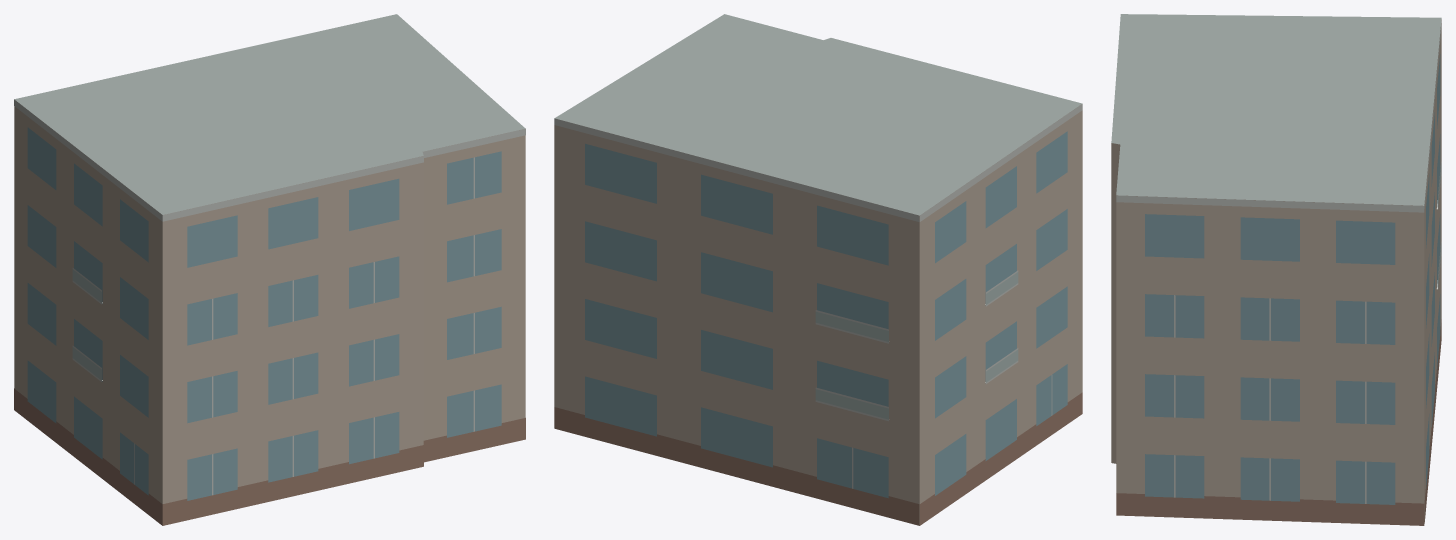
Rendered from survey-upis-32896375.glb.
3 renders of one model, left to right at view 1: azimuth 30°, elevation 25°; view 2: azimuth 150°, elevation 25°; view 3: azimuth 270°, elevation 25°, orthographic. The views are drawn at different scales.
Parts seen in each view (by area): view 1: survey-upis-32896375.tmp; view 2: survey-upis-32896375.tmp; view 3: survey-upis-32896375.tmp.
Part boxes in pixels (x1,y1,x2,y2): survey-upis-32896375.tmp: (14,14,525,525); survey-upis-32896375.tmp: (554,14,1082,525); survey-upis-32896375.tmp: (1111,14,1441,525).
Size of the model in its own units: 14.66 by 11.4 by 10.67.
